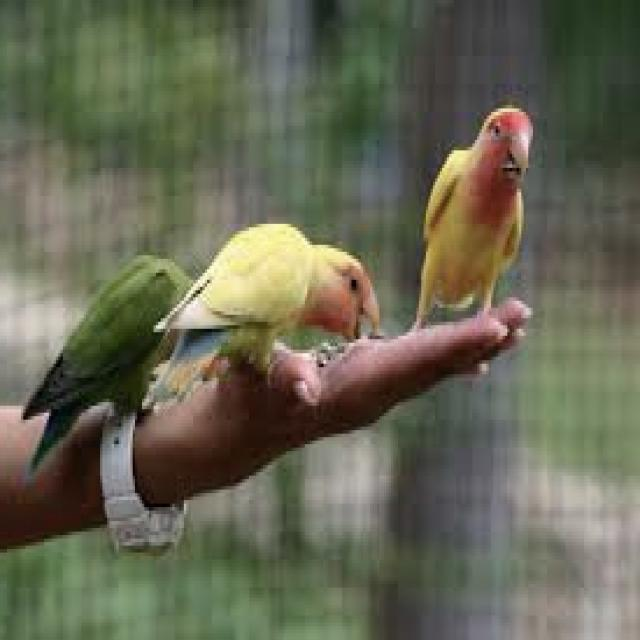parrot: (26, 255, 191, 455), (175, 224, 379, 367), (419, 105, 533, 322)
